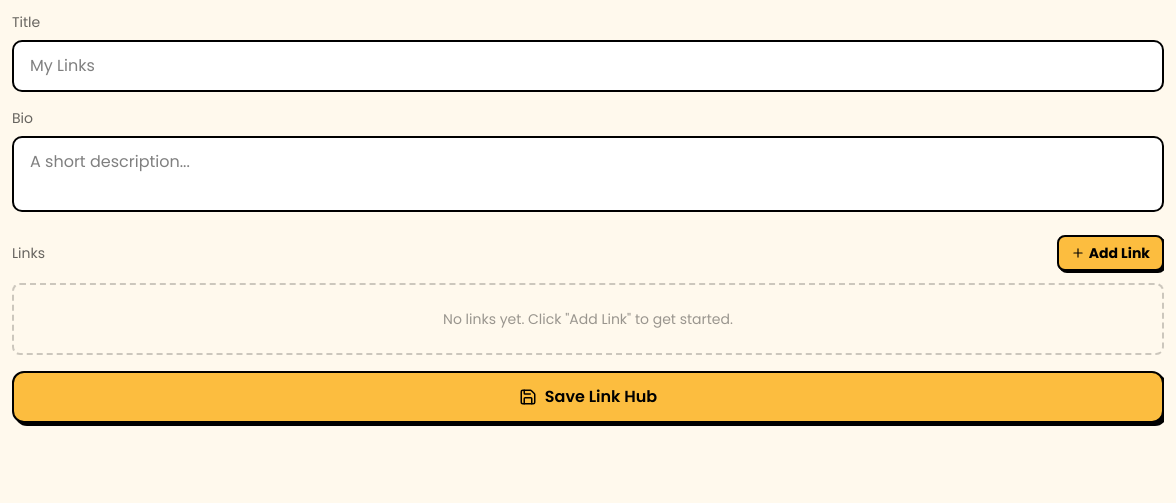
LinkHubEditor › should add and remove links
Expected: the text "No links yet. Click \"Add Link\" to get started." is shown, x1=12 y1=283 x2=1164 y2=355
Click the button "Add Link" at (1110, 253), box x1=1057 y1=235 x2=1164 y2=271
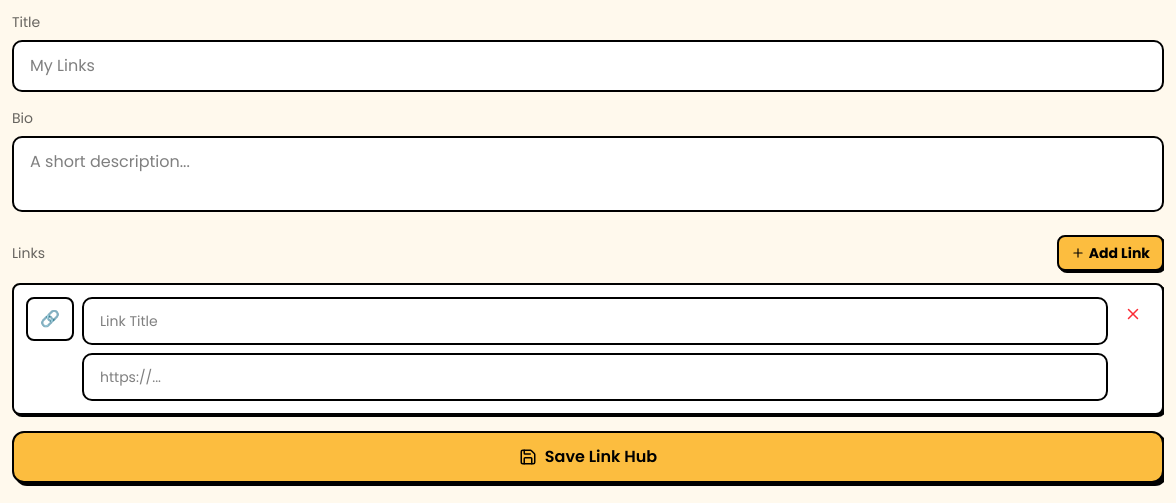
Expected: the text "No links yet" is gone
Expected: the number of fields with placeholder "Link Title" is 1, x1=82 y1=297 x2=1108 y2=345
Note: Remove link - find button with red text class
Click the 2nd button at (1133, 314), box x1=1116 y1=297 x2=1150 y2=331
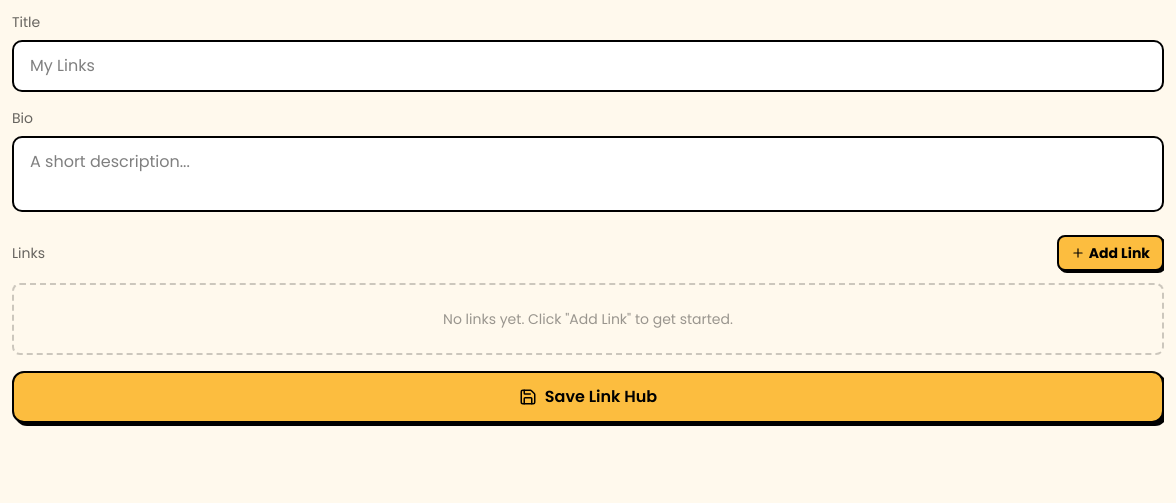
Expected: the text "No links yet. Click \"Add Link\" to get started." is shown, x1=12 y1=283 x2=1164 y2=355
